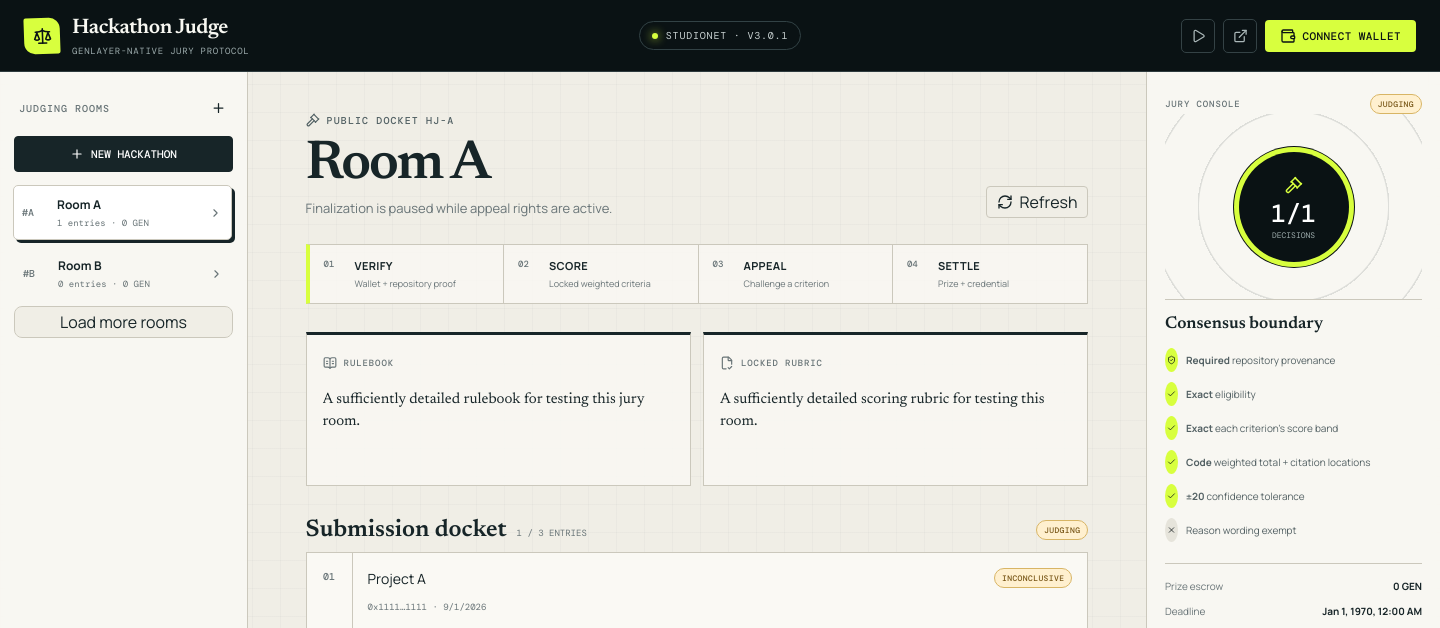
Test: room and transaction safety › shows invalid deposit values without starting a transaction
The width and height of the screenshot is (1440, 628).
Expected: the heading "Room A" is shown, 306,138 -> 489,193
Click the button "Connect wallet": (1341, 36) 1265,20 -> 1416,52
(page scrolled)
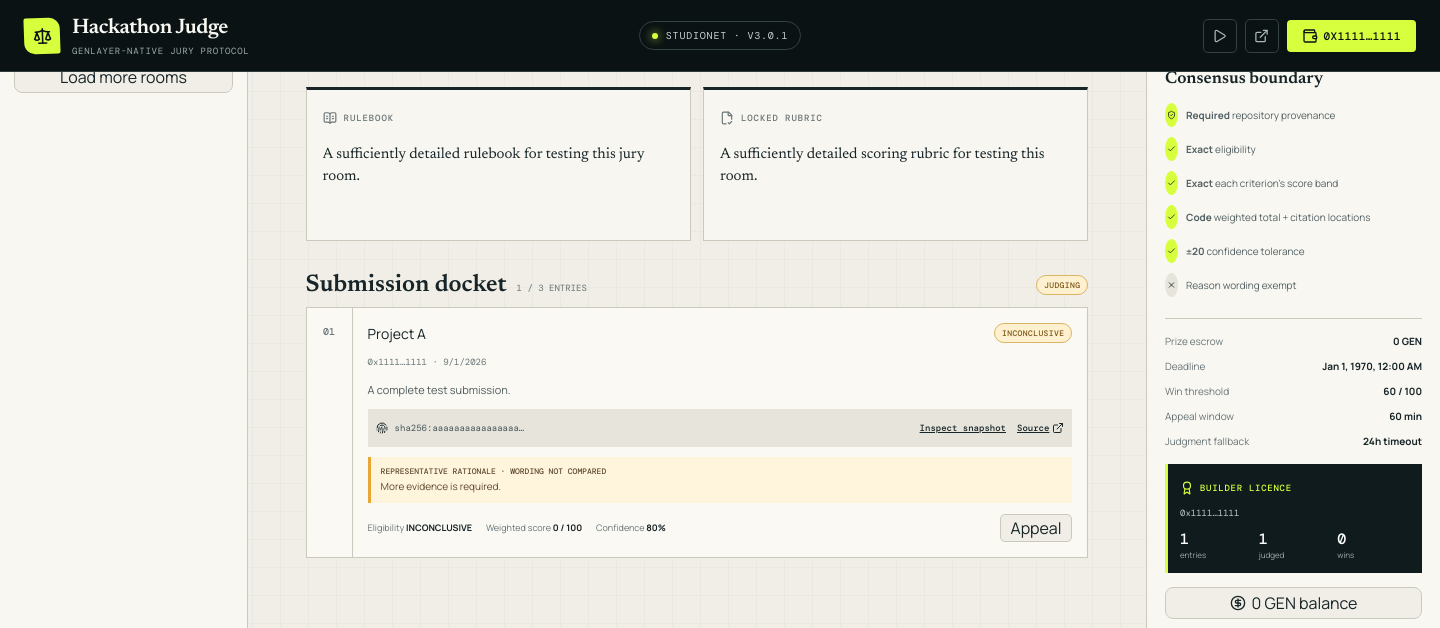
Expected: the button "0 GEN balance" is shown
Click the button "0 GEN balance": (1294, 603) 1165,587 -> 1422,619
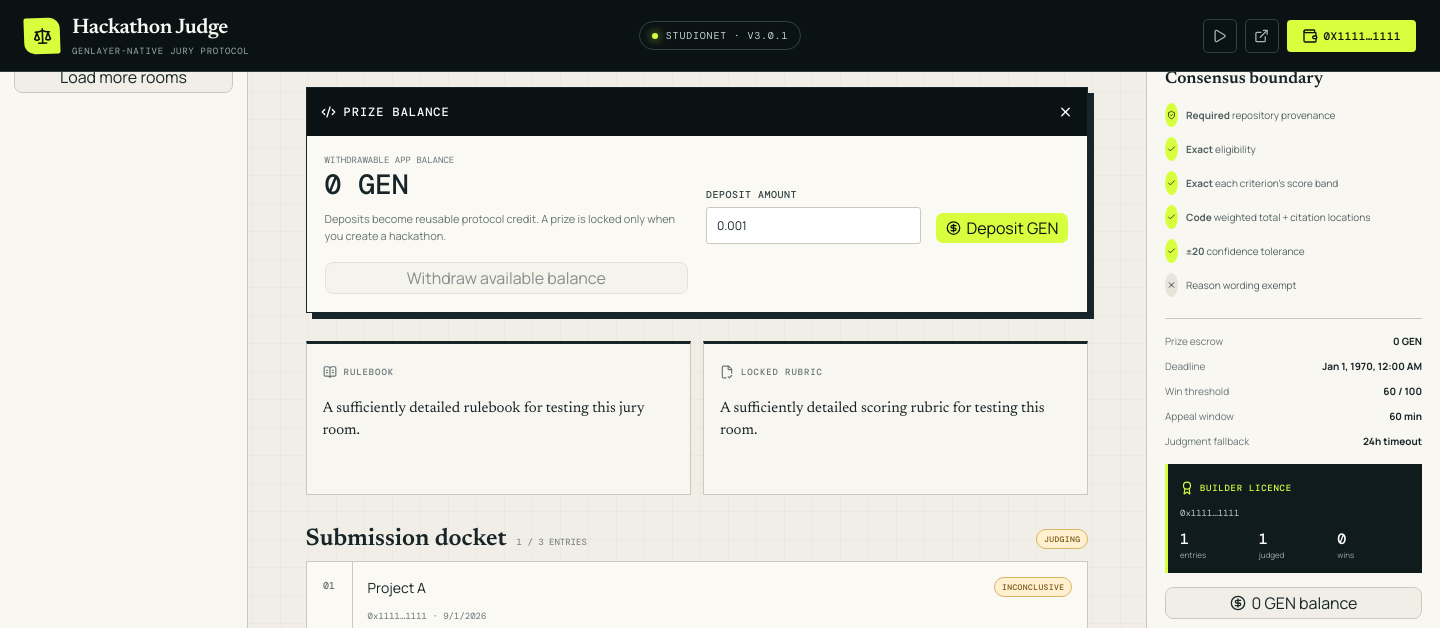
Replace the text in the field labelled "Deposit amount" with "abc": (813, 226) 706,207 -> 921,244
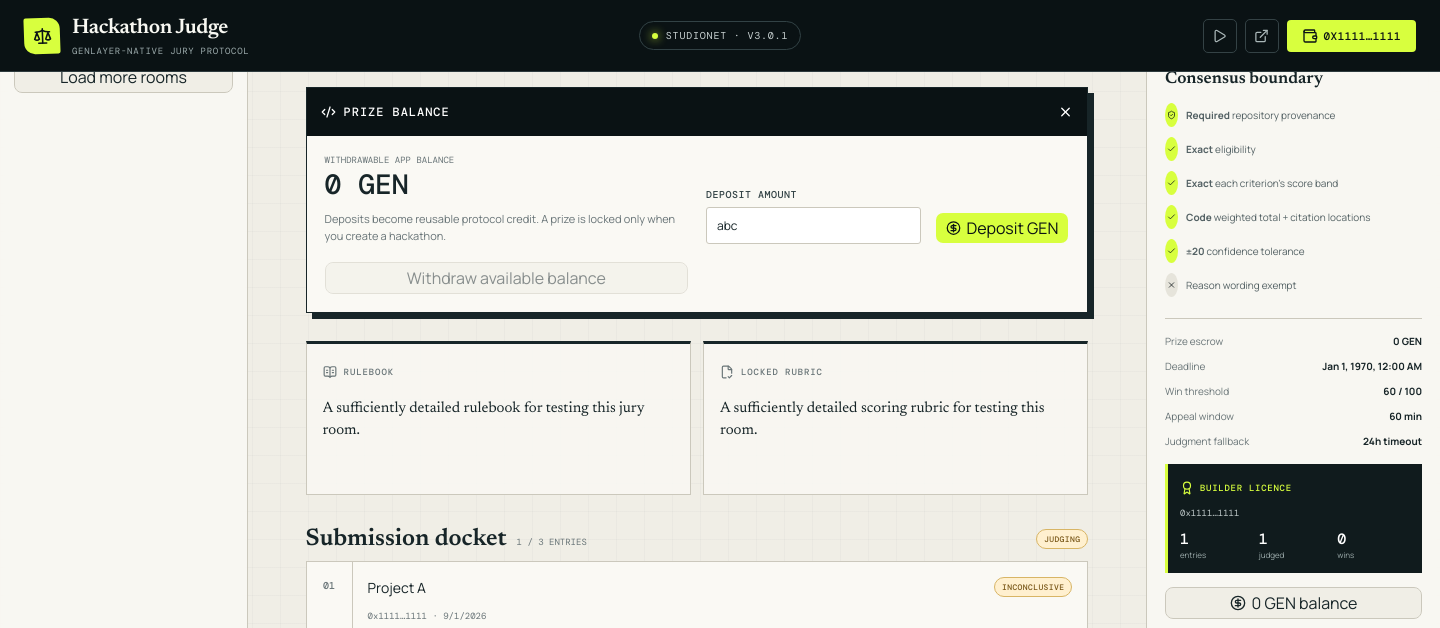
Submit the form labelled "Deposit amount", box 706,188 -> 1069,244
(page scrolled)
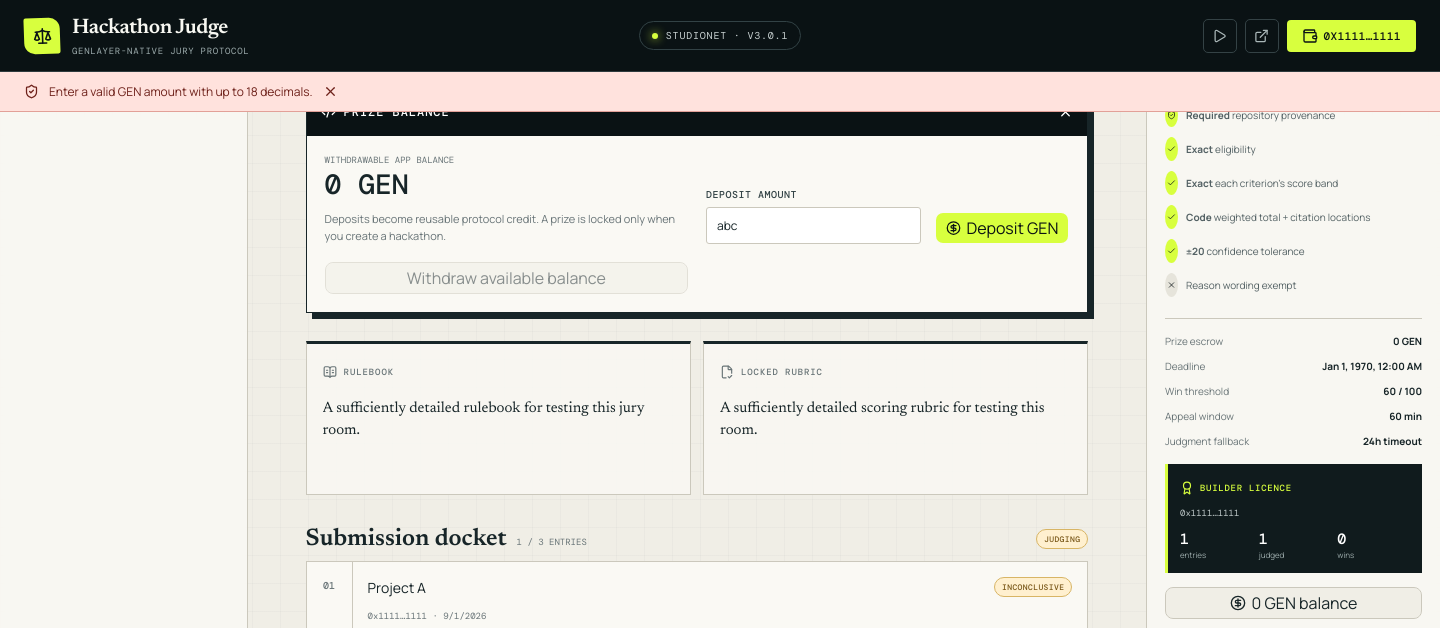
Expected: the text "Enter a valid GEN amount with up to 18 decimals." is shown, 49,82 -> 313,100
